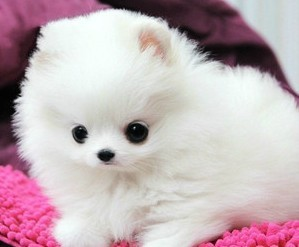dog: (18, 20, 195, 181)
